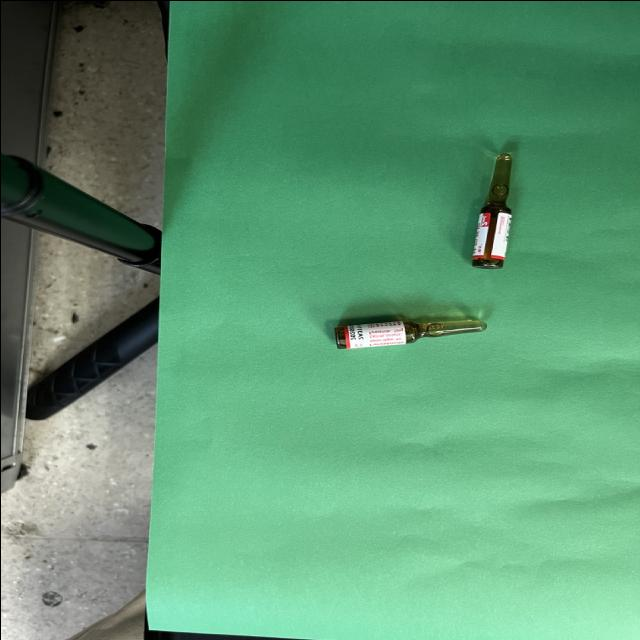Ampoules: (333, 318, 485, 348), (471, 153, 510, 268)
